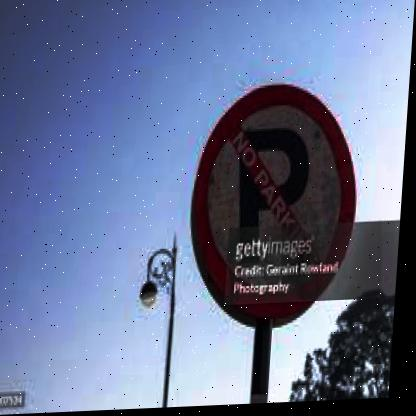No parking: (188, 78, 363, 319)
